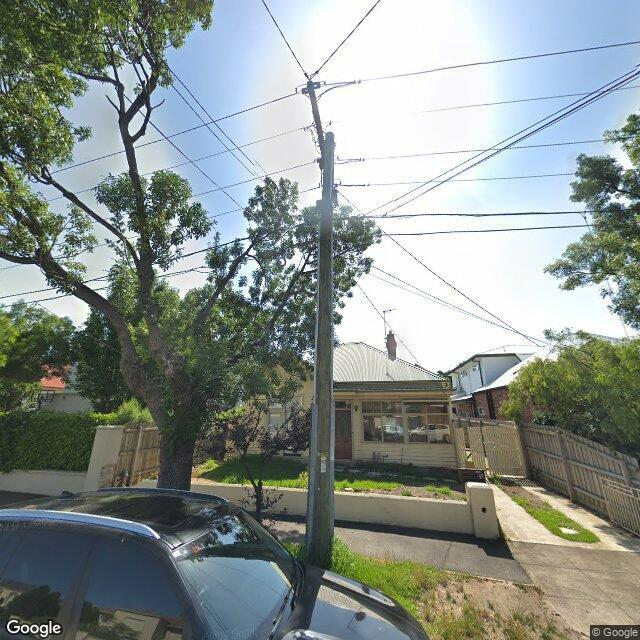crossarm: (294, 80, 371, 189)
timber-pole: (303, 131, 337, 568)
